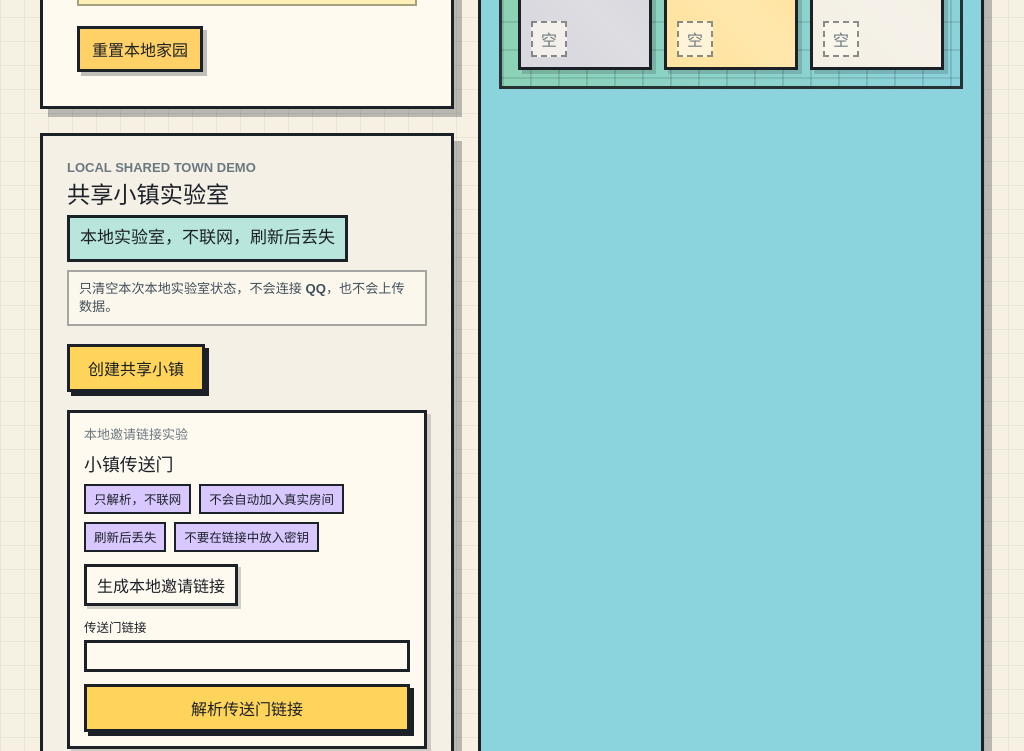
Scenario: App › keeps local-only home controls while using the demo
This screenshot has width=1024, height=751.
(page scrolled)
Click the button "创建共享小镇".
click(136, 368)  # box [67,344,205,392]
(page scrolled)
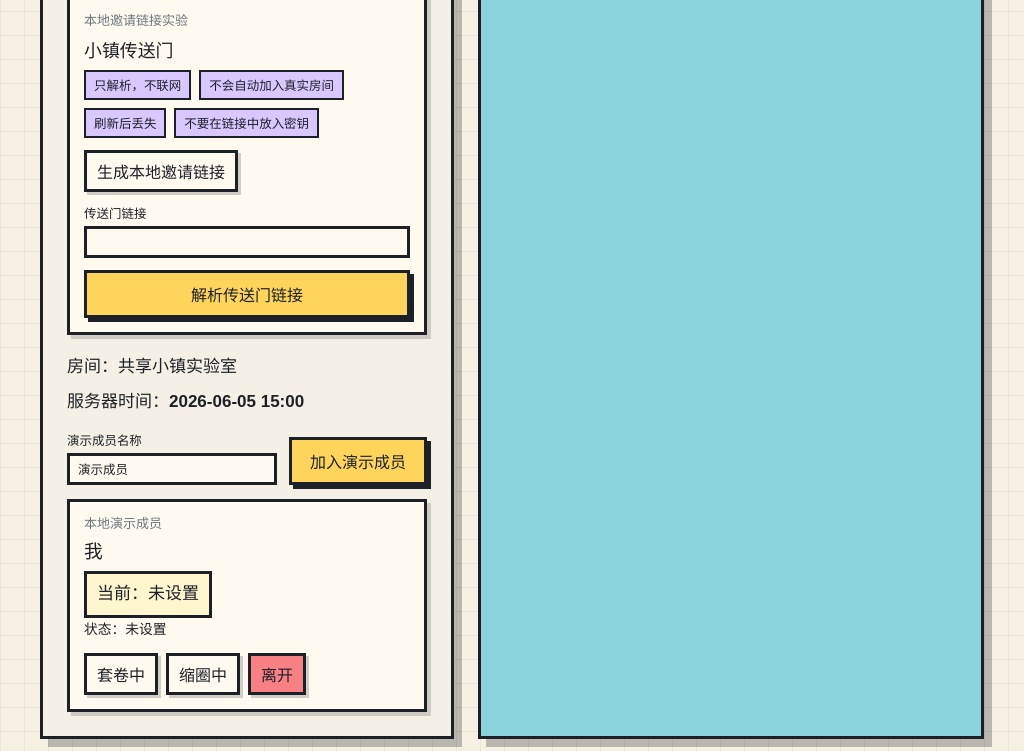
Check: the text "房间：共享小镇实验室" is shown, box [67,357,237,376]
